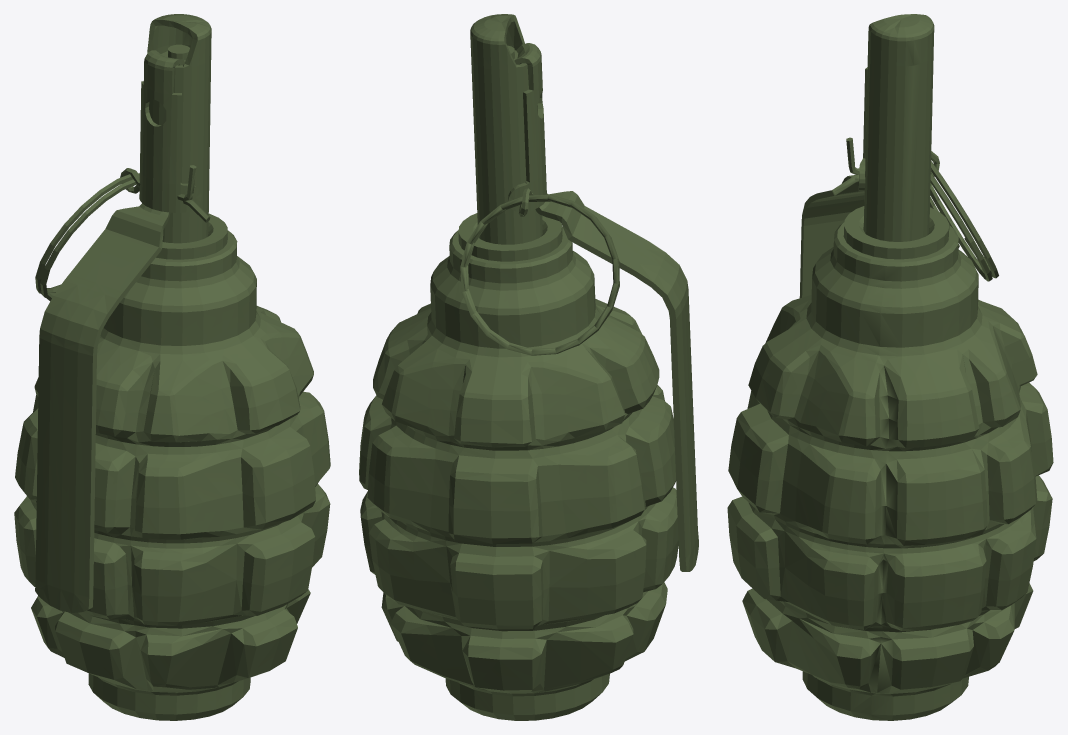
Rendered from frag.glb.
The picture shows the model from 3 angles, left to right: view 1: azimuth 30°, elevation 25°; view 2: azimuth 150°, elevation 25°; view 3: azimuth 270°, elevation 25°; orthographic projection. The views are drawn at different scales.
Visible parts, largest first — view 1: Grenade; view 2: Grenade; view 3: Grenade.
Boxes of the visible parts, box(x1,y1,x2,y2) form: Grenade: box(14, 14, 330, 720); Grenade: box(359, 14, 698, 720); Grenade: box(727, 14, 1053, 720).
Size of the model in its own units: 0.0631 by 0.139 by 0.0602.
